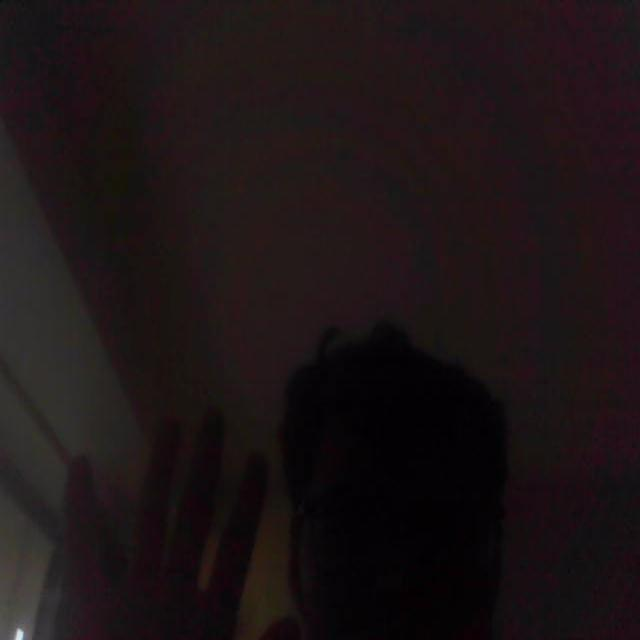Hello: (45, 408, 275, 640)
